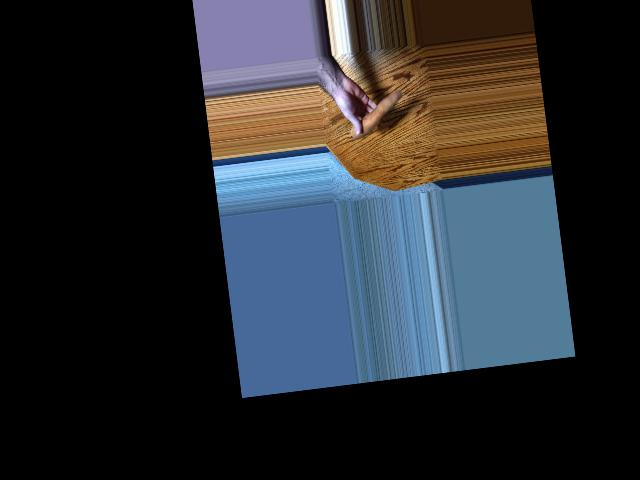sweet_potato: (346, 88, 406, 137)
